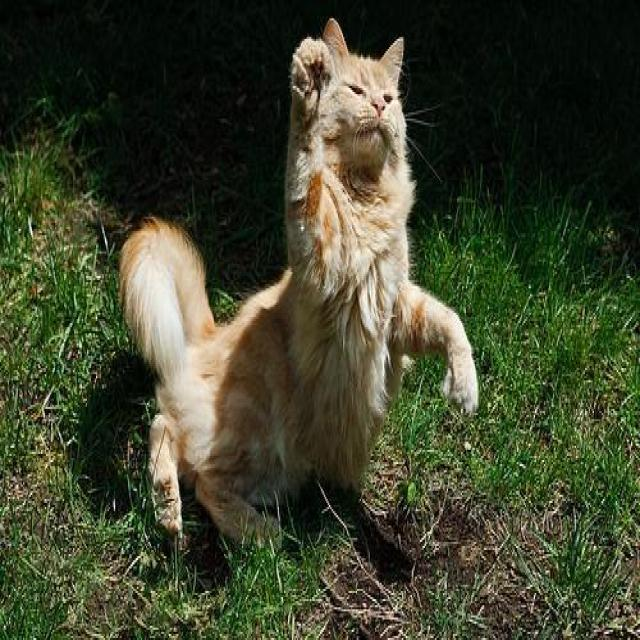cat: (119, 19, 479, 558)
